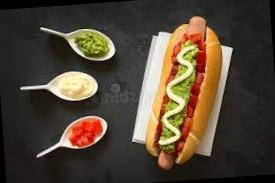Completos: (132, 13, 235, 168)
